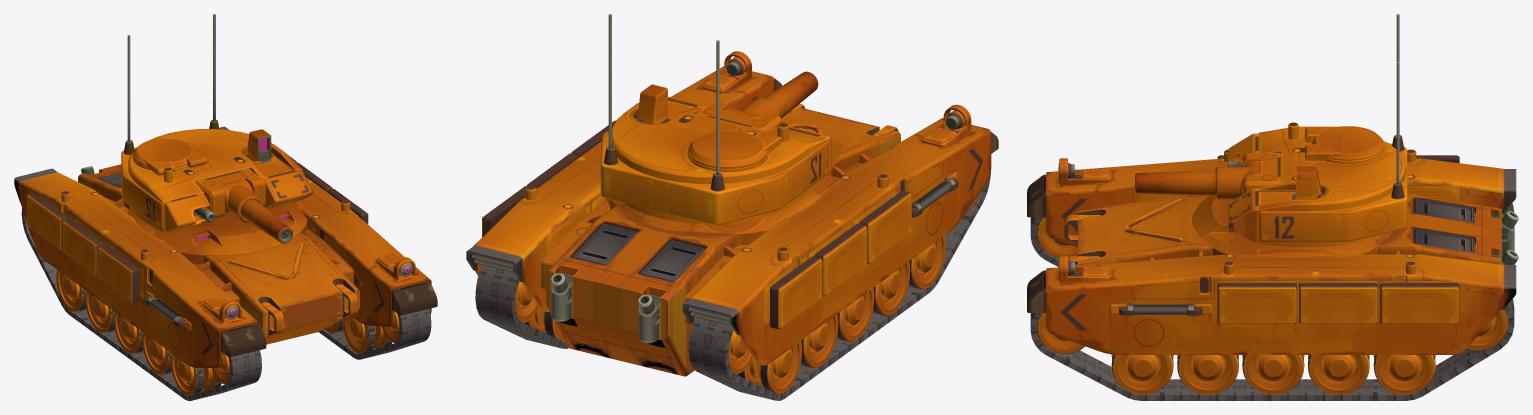
Rendered from light-tank4-bake1.fbx.
3 views of the same model, side by side, from view 1: azimuth 30°, elevation 25°; view 2: azimuth 150°, elevation 25°; view 3: azimuth 270°, elevation 25° (orthographic). The views are drawn at different scales.
Parts seen in each view (by area): view 1: hull, turret, Cube.045, Cube.016, lp.001, lp.005, barrel, gun-base, lp.012, lp.011, lp.002, lp.003 (+2 smaller); view 2: hull, turret, Cube.045, Cube.016, lp.012, lp.011, lp.003, lp.001, lp.002, barrel, visor, lp.014 (+5 smaller); view 3: hull, turret, Cube.016, lp.005, lp.007, lp.009, lp.006, lp.008, barrel, gun-base, lp.010, visor (+4 smaller).
Boxes of the visible parts, box(x1,y1,x2,y2) form: hull: box(14, 126, 437, 367); turret: box(121, 119, 312, 232); Cube.045: box(21, 208, 261, 400); Cube.016: box(319, 309, 431, 359); lp.001: box(170, 353, 221, 395); lp.005: box(342, 316, 392, 353); barrel: box(240, 199, 292, 243); gun-base: box(218, 178, 262, 222); lp.012: box(56, 269, 85, 312); lp.011: box(85, 291, 114, 333); lp.002: box(142, 332, 171, 375); lp.003: box(113, 311, 143, 354); hull: box(466, 51, 998, 376); turret: box(600, 97, 842, 224); Cube.045: box(688, 173, 990, 400); Cube.016: box(475, 265, 568, 348); lp.012: box(737, 341, 802, 394); lp.011: box(801, 314, 838, 368); lp.003: box(837, 288, 874, 341); lp.001: box(909, 235, 946, 289); lp.002: box(873, 262, 910, 315); barrel: box(764, 71, 818, 118); visor: box(637, 84, 669, 124); lp.014: box(728, 330, 753, 374); hull: box(1027, 149, 1518, 354); turret: box(1228, 122, 1407, 247); Cube.016: box(1030, 299, 1514, 400); lp.005: box(1111, 354, 1173, 394); lp.007: box(1242, 355, 1304, 394); lp.009: box(1373, 355, 1435, 394); lp.006: box(1177, 355, 1238, 394); lp.008: box(1308, 355, 1369, 394); barrel: box(1135, 171, 1215, 195); gun-base: box(1215, 161, 1261, 199); lp.010: box(1467, 309, 1507, 350); visor: box(1291, 166, 1321, 199).
Bounding box in the file's own units: 0.5584 × 0.6023 × 0.8744.
